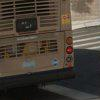Bus: (2, 1, 77, 89)
